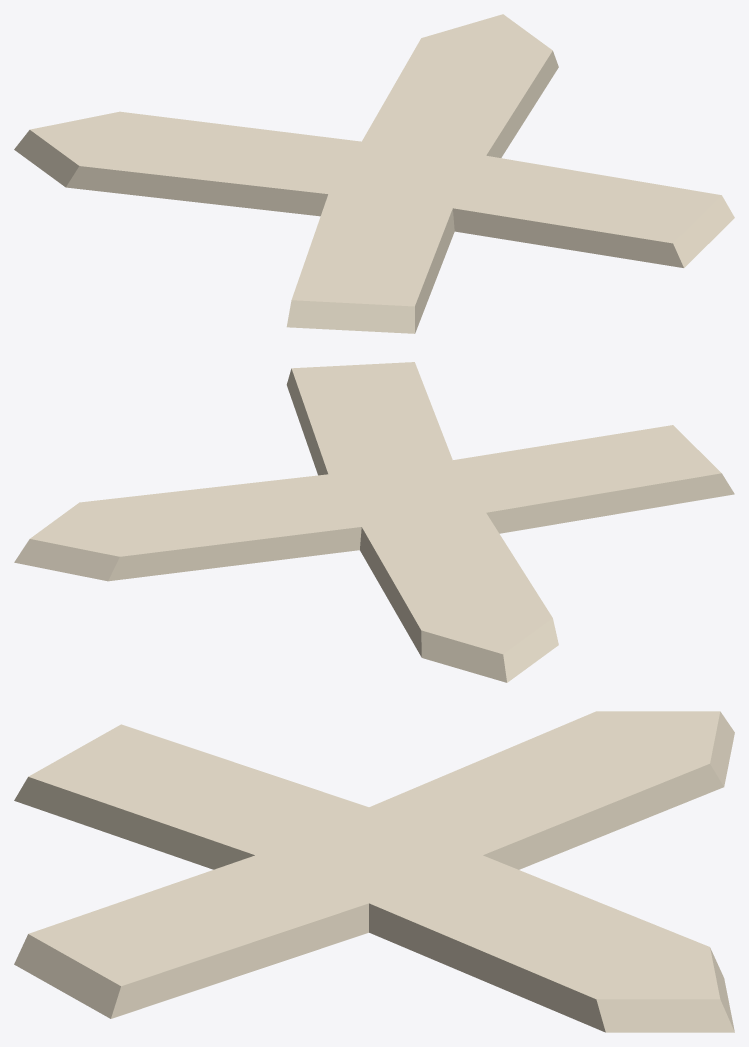
The model's file is SunnyLoop_Space_Symbol_Duel_v1.fbx.
3 views of the same model, one above another, from view 1: azimuth 30°, elevation 25°; view 2: azimuth 150°, elevation 25°; view 3: azimuth 270°, elevation 25° (orthographic). The views are drawn at different scales.
Parts seen in each view (by area): view 1: SunnyLoop_Space_Symbol_Duel_v1; view 2: SunnyLoop_Space_Symbol_Duel_v1; view 3: SunnyLoop_Space_Symbol_Duel_v1.
Part boxes in pixels (x1,y1,x2,y2): SunnyLoop_Space_Symbol_Duel_v1: (14,14,734,333); SunnyLoop_Space_Symbol_Duel_v1: (14,362,734,682); SunnyLoop_Space_Symbol_Duel_v1: (14,711,734,1032).
Size of the model in its own units: 0.924 by 0.0392 by 0.938.
